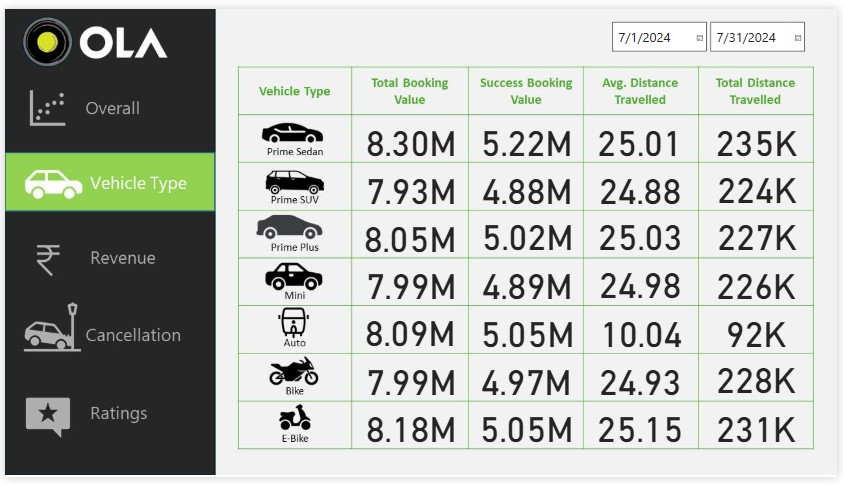

What the dashboard file says about the page in this screenshot:
{"tool":"powerbi","page":{"name":"Vehicle Type","canvas":[1280,720],"ordinal":1},"visuals":[{"type":"actionButton","box":[0,438.3,323.3,108.3],"z":0},{"type":"actionButton","box":[285,343.3,323.3,108.3],"z":1000},{"type":"actionButton","box":[0,330,323.3,108.3],"z":2000},{"type":"actionButton","box":[0,105,323.3,108.3],"z":3000},{"type":"actionButton","box":[0,573.3,323.3,108.3],"z":4000},{"type":"card","fields":{"Values":["Sum(July.Booking_Value)"]},"box":[533.3,236.7,181.7,73.3],"z":5000},{"type":"card","fields":{"Values":["Sum(July.Booking_Value)"]},"box":[531.7,310,181.7,73.3],"z":6000},{"type":"card","fields":{"Values":["Sum(July.Booking_Value)"]},"box":[533.3,383.3,181.7,73.3],"z":7000},{"type":"card","fields":{"Values":["Sum(July.Booking_Value)"]},"box":[531.7,455,181.7,73.3],"z":8000},{"type":"card","fields":{"Values":["Sum(July.Booking_Value)"]},"box":[533.3,530,181.7,73.3],"z":9000},{"type":"card","fields":{"Values":["Sum(July.Booking_Value)"]},"box":[533.3,603.3,181.7,73.3],"z":10000},{"type":"card","fields":{"Values":["Sum(July.Booking_Value)"]},"box":[533.3,163.3,181.7,73.3],"z":11000},{"type":"card","fields":{"Values":["Sum(July.Booking_Value)"]},"box":[710,603.3,181.7,73.3],"z":12000},{"type":"card","fields":{"Values":["Sum(July.Booking_Value)"]},"box":[711.7,308.3,181.7,73.3],"z":13000},{"type":"card","fields":{"Values":["Sum(July.Booking_Value)"]},"box":[710,163.3,181.7,73.3],"z":14000},{"type":"card","fields":{"Values":["Sum(July.Booking_Value)"]},"box":[711.7,383.3,181.7,73.3],"z":15000},{"type":"card","fields":{"Values":["Sum(July.Booking_Value)"]},"box":[711.7,236.7,181.7,73.3],"z":16000},{"type":"card","fields":{"Values":["Sum(July.Booking_Value)"]},"box":[711.7,456.7,181.7,73.3],"z":17000},{"type":"card","fields":{"Values":["Sum(July.Booking_Value)"]},"box":[710,530,181.7,73.3],"z":18000},{"type":"card","fields":{"Values":["Avg(July.Ride_Distance)"]},"box":[886.7,163.3,180,73.3],"z":19000},{"type":"card","fields":{"Values":["Avg(July.Ride_Distance)"]},"box":[886.7,236.7,181.7,73.3],"z":20000},{"type":"card","fields":{"Values":["Avg(July.Ride_Distance)"]},"box":[886.7,308.3,181.7,73.3],"z":21000},{"type":"card","fields":{"Values":["Avg(July.Ride_Distance)"]},"box":[886.7,381.7,181.7,73.3],"z":22000},{"type":"card","fields":{"Values":["Avg(July.Ride_Distance)"]},"box":[887.7,456.9,182.2,73.7],"z":23000},{"type":"card","fields":{"Values":["Avg(July.Ride_Distance)"]},"box":[886.7,530,181.7,73.3],"z":24000},{"type":"card","fields":{"Values":["Avg(July.Ride_Distance)"]},"box":[886.7,603.3,181.7,73.3],"z":25000},{"type":"card","fields":{"Values":["Sum(July.Ride_Distance)"]},"box":[1066.7,163.3,180,73.3],"z":26000},{"type":"card","fields":{"Values":["Sum(July.Ride_Distance)"]},"box":[1066.7,235,181.7,73.3],"z":27000},{"type":"card","fields":{"Values":["Sum(July.Ride_Distance)"]},"box":[1066.7,308.3,181.7,73.3],"z":28000},{"type":"card","fields":{"Values":["Sum(July.Ride_Distance)"]},"box":[1065,383.3,181.7,73.3],"z":29000},{"type":"card","fields":{"Values":["Sum(July.Ride_Distance)"]},"box":[1065,456.7,181.7,73.3],"z":30000},{"type":"card","fields":{"Values":["Sum(July.Ride_Distance)"]},"box":[1065,528.3,181.7,73.3],"z":31000},{"type":"card","fields":{"Values":["Sum(July.Ride_Distance)"]},"box":[1065,603.3,181.7,73.3],"z":32000},{"type":"slicer","title":"Date","fields":{"Values":["July.Date"]},"box":[922,0,324,88],"z":32001}]}

Visuals, with their boxes on the page's 1280x720 design canvas (x1, y1, x2, y2). These are canvas units, not pixel positions in the 843x484 screenshot, which may show the page scaled, cropped or inside an application window:
actionButton: (x1=0, y1=438, x2=323, y2=547)
actionButton: (x1=285, y1=343, x2=608, y2=452)
actionButton: (x1=0, y1=330, x2=323, y2=438)
actionButton: (x1=0, y1=105, x2=323, y2=213)
actionButton: (x1=0, y1=573, x2=323, y2=682)
card - Sum(July.Booking_Value): (x1=533, y1=237, x2=715, y2=310)
card - Sum(July.Booking_Value): (x1=532, y1=310, x2=713, y2=383)
card - Sum(July.Booking_Value): (x1=533, y1=383, x2=715, y2=457)
card - Sum(July.Booking_Value): (x1=532, y1=455, x2=713, y2=528)
card - Sum(July.Booking_Value): (x1=533, y1=530, x2=715, y2=603)
card - Sum(July.Booking_Value): (x1=533, y1=603, x2=715, y2=677)
card - Sum(July.Booking_Value): (x1=533, y1=163, x2=715, y2=237)
card - Sum(July.Booking_Value): (x1=710, y1=603, x2=892, y2=677)
card - Sum(July.Booking_Value): (x1=712, y1=308, x2=893, y2=382)
card - Sum(July.Booking_Value): (x1=710, y1=163, x2=892, y2=237)
card - Sum(July.Booking_Value): (x1=712, y1=383, x2=893, y2=457)
card - Sum(July.Booking_Value): (x1=712, y1=237, x2=893, y2=310)
card - Sum(July.Booking_Value): (x1=712, y1=457, x2=893, y2=530)
card - Sum(July.Booking_Value): (x1=710, y1=530, x2=892, y2=603)
card - Avg(July.Ride_Distance): (x1=887, y1=163, x2=1067, y2=237)
card - Avg(July.Ride_Distance): (x1=887, y1=237, x2=1068, y2=310)
card - Avg(July.Ride_Distance): (x1=887, y1=308, x2=1068, y2=382)
card - Avg(July.Ride_Distance): (x1=887, y1=382, x2=1068, y2=455)
card - Avg(July.Ride_Distance): (x1=888, y1=457, x2=1070, y2=531)
card - Avg(July.Ride_Distance): (x1=887, y1=530, x2=1068, y2=603)
card - Avg(July.Ride_Distance): (x1=887, y1=603, x2=1068, y2=677)
card - Sum(July.Ride_Distance): (x1=1067, y1=163, x2=1247, y2=237)
card - Sum(July.Ride_Distance): (x1=1067, y1=235, x2=1248, y2=308)
card - Sum(July.Ride_Distance): (x1=1067, y1=308, x2=1248, y2=382)
card - Sum(July.Ride_Distance): (x1=1065, y1=383, x2=1247, y2=457)
card - Sum(July.Ride_Distance): (x1=1065, y1=457, x2=1247, y2=530)
card - Sum(July.Ride_Distance): (x1=1065, y1=528, x2=1247, y2=602)
card - Sum(July.Ride_Distance): (x1=1065, y1=603, x2=1247, y2=677)
"Date" slicer: (x1=922, y1=0, x2=1246, y2=88)
